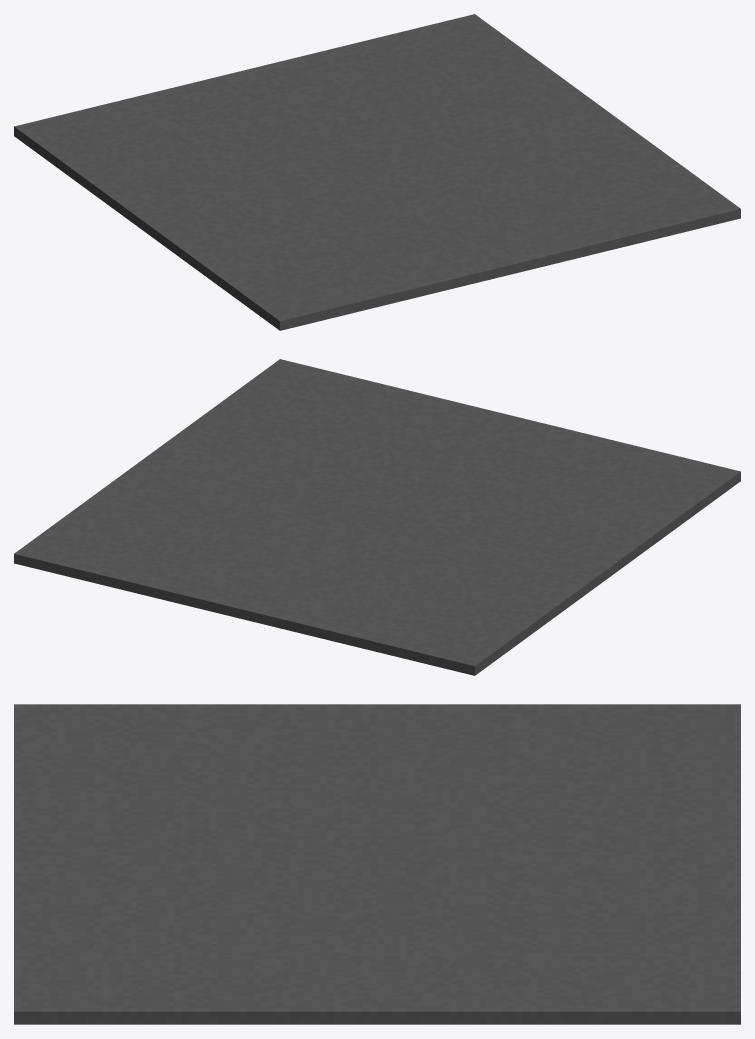
File: Bunker - Free Sample-95-Floor_Dark_Gray-4.obj
The picture shows the model from 3 angles, top to bottom: view 1: azimuth 30°, elevation 25°; view 2: azimuth 150°, elevation 25°; view 3: azimuth 270°, elevation 25°; orthographic projection. The views are drawn at different scales.
Parts seen in each view (by area): view 1: Floor_Dark_Gray-4; view 2: Floor_Dark_Gray-4; view 3: Floor_Dark_Gray-4.
Boxes of the visible parts, bbox=[...] form: Floor_Dark_Gray-4: bbox=[14, 14, 740, 330]; Floor_Dark_Gray-4: bbox=[14, 359, 740, 675]; Floor_Dark_Gray-4: bbox=[14, 704, 740, 1024].
Size of the model in its own units: 2 by 0.04 by 2.
Materials: 1 (1 with a texture image).
